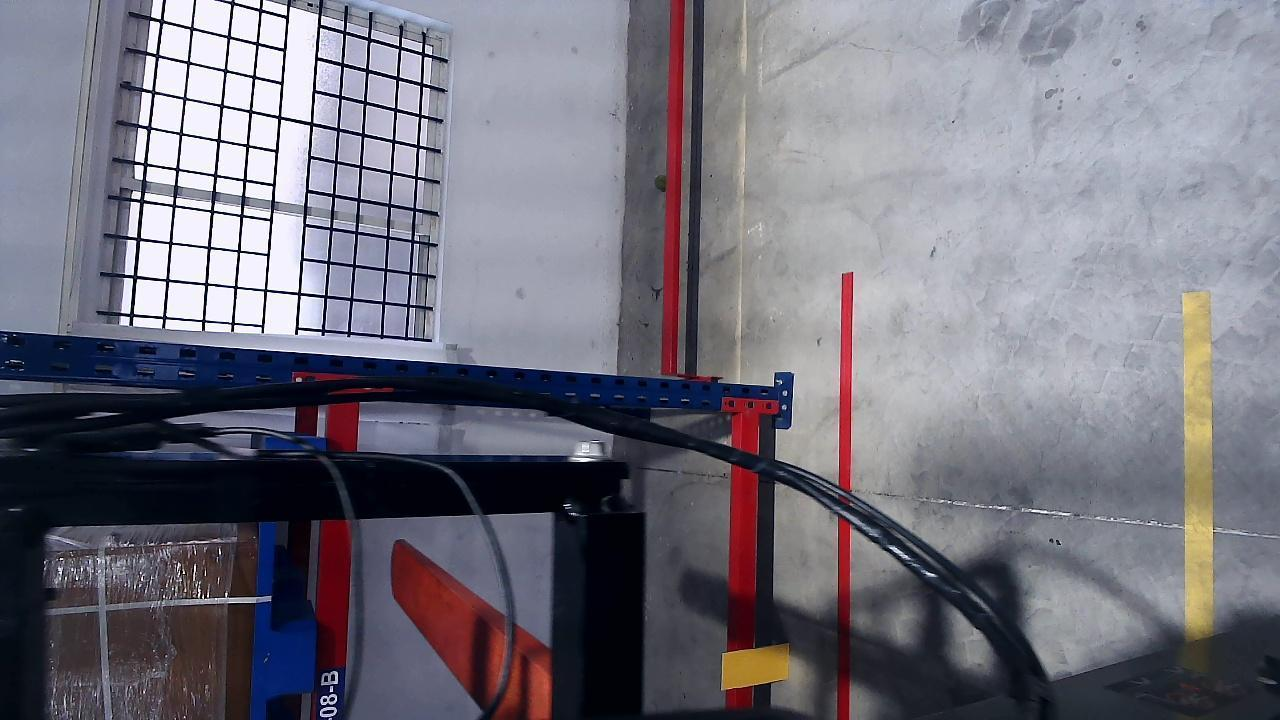red_line: (837, 271, 855, 720)
yellow_line: (1182, 298, 1215, 635)
